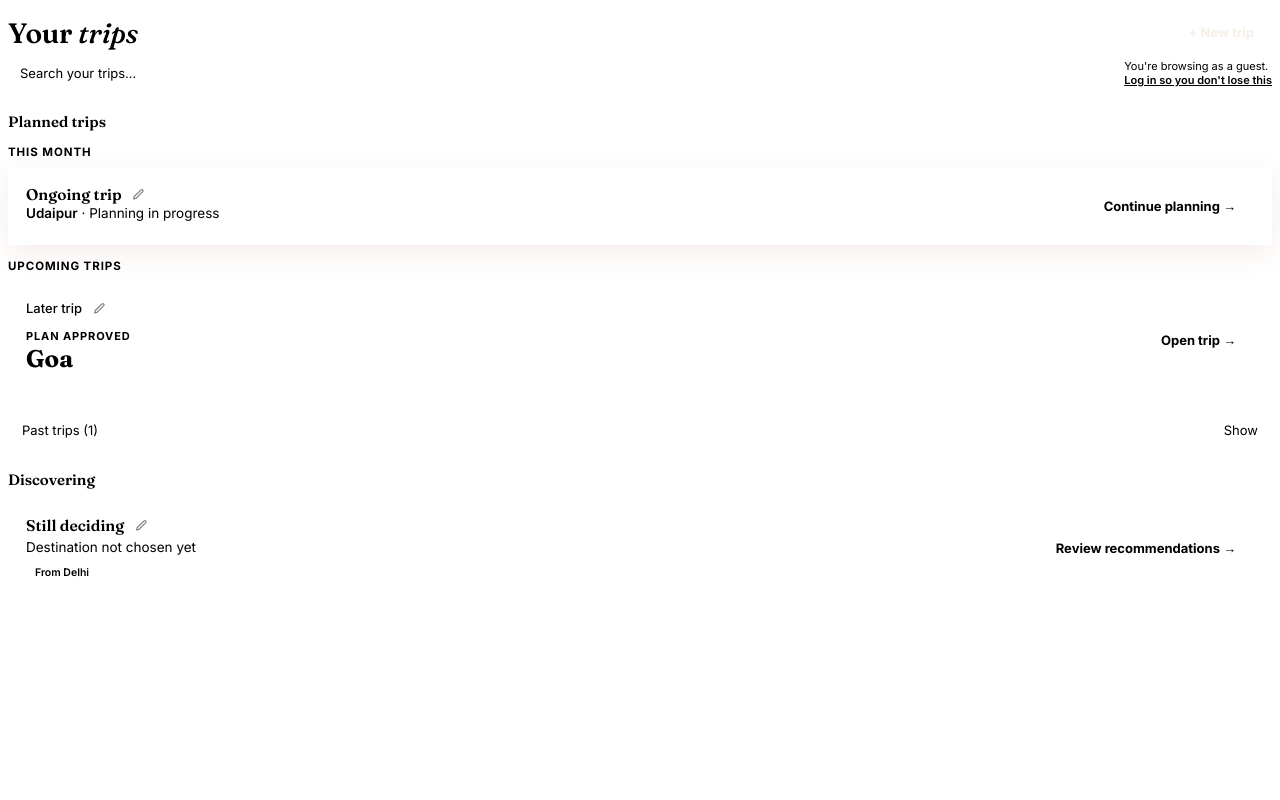
Test: DashboardHome › Plan cards › leads with Happening now, then Upcoming trips, then Discovering; Past trips stay collapsed
Expected: the heading "Planned trips" is shown, [8,112,106,131]
Expected: the element with class "hero-trip" shows "Ongoing trip", [26,184,122,204]
Click the button "Past trips (1) Show". click: (55, 430)
box: [8,412,1272,448]
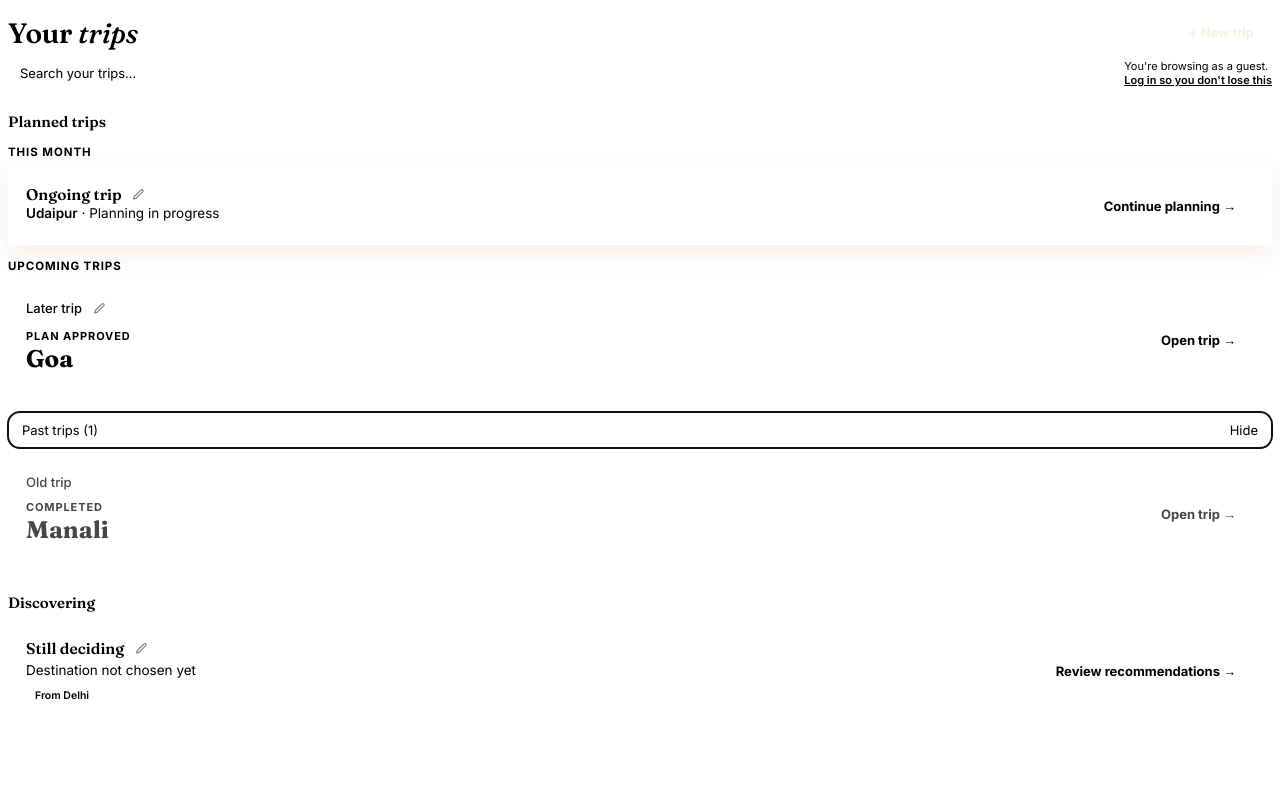
Now the text "Old trip" is shown, box [26,474,72,490]
